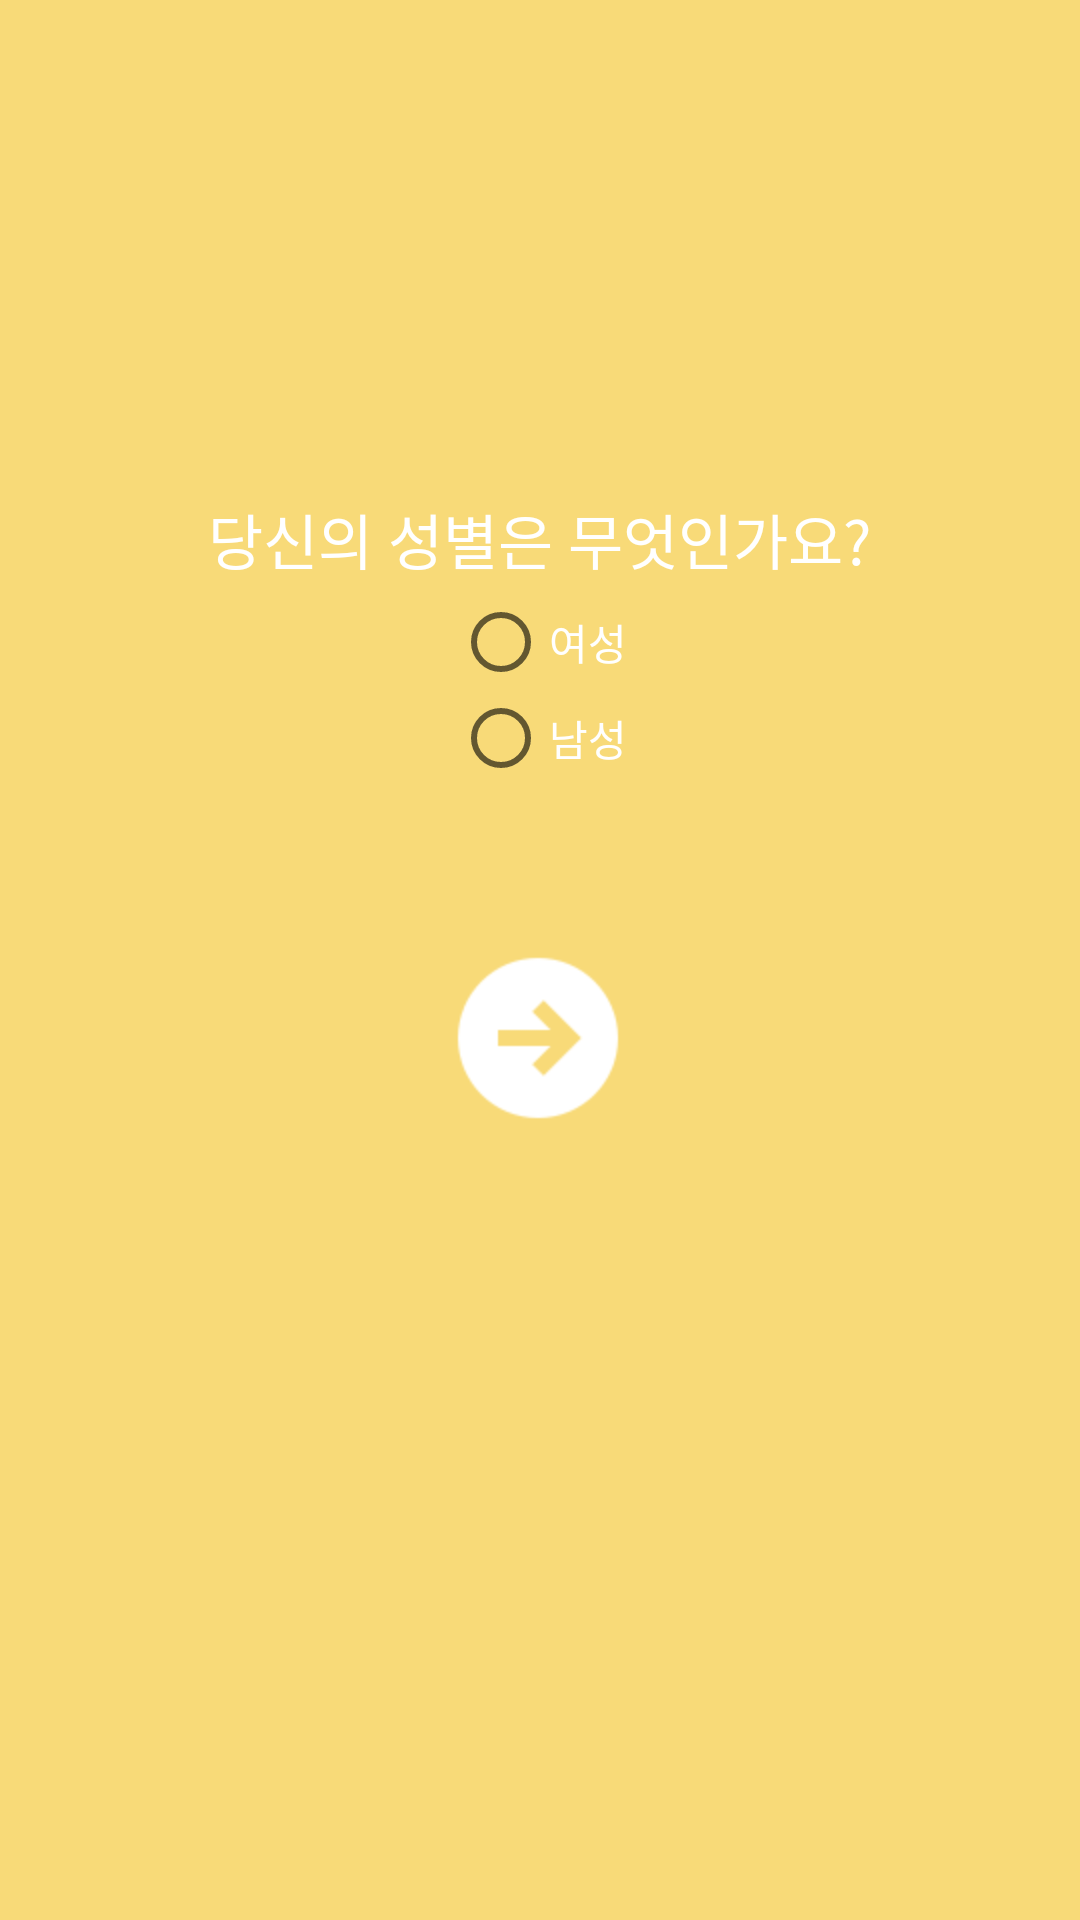

Named icons in this screenshot (1080x1920) and their bounding boxes, (x1, y1, x2, y2):
arrow: (457, 957, 619, 1119)
